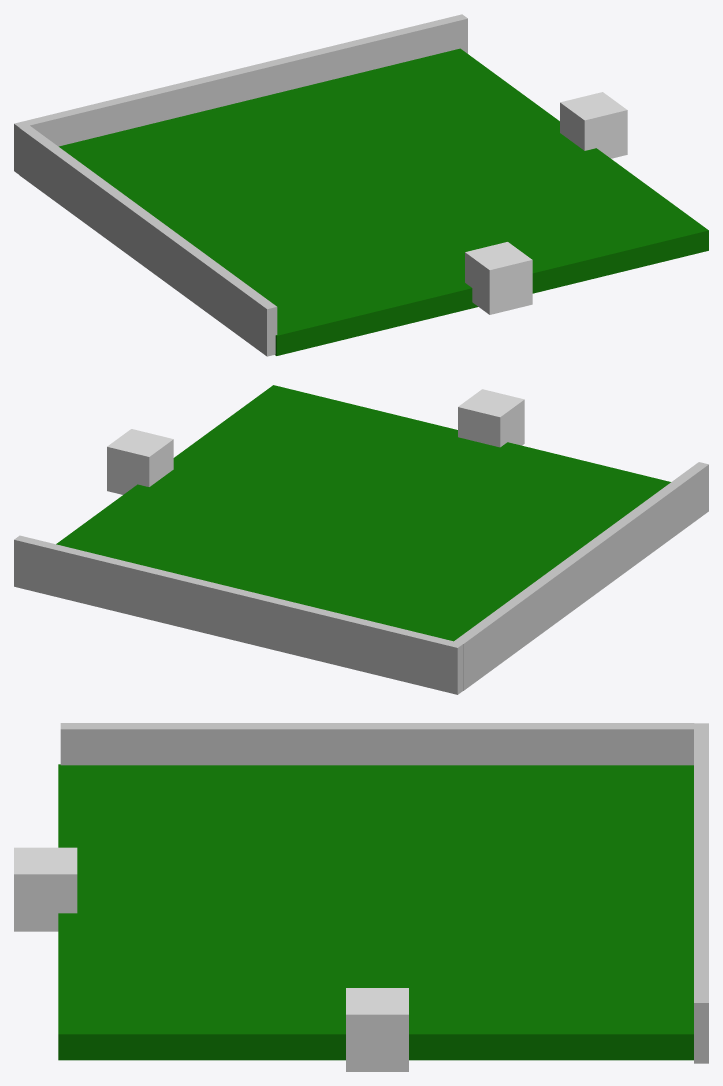
Rendered from hard_bend.gltf.
3 renders of one model, top to bottom at view 1: azimuth 30°, elevation 25°; view 2: azimuth 150°, elevation 25°; view 3: azimuth 270°, elevation 25°, orthographic. The views are drawn at different scales.
Visible parts, largest first — view 1: Cube, Cube.004, Cube.001, obj_snap.003, obj_snap; view 2: Cube, Cube.004, Cube.001, obj_snap, obj_snap.003; view 3: Cube, Cube.001, obj_snap, Cube.004, obj_snap.003.
Part boxes in pixels (left/top/right/bottom): Cube: left=59, top=48, right=708, bottom=355; Cube.004: left=14, top=14, right=467, bottom=174; Cube.001: left=19, top=125, right=277, bottom=356; obj_snap.003: left=465, top=242, right=532, bottom=314; obj_snap: left=560, top=92, right=627, bottom=158; Cube: left=56, top=385, right=670, bottom=641; Cube.004: left=14, top=535, right=463, bottom=694; Cube.001: left=454, top=462, right=708, bottom=690; obj_snap: left=107, top=429, right=173, bottom=494; obj_snap.003: left=458, top=389, right=524, bottom=447; Cube: left=58, top=764, right=693, bottom=1060; Cube.001: left=60, top=723, right=694, bottom=765; obj_snap: left=346, top=988, right=408, bottom=1071; Cube.004: left=694, top=723, right=708, bottom=1063; obj_snap.003: left=14, top=847, right=77, bottom=931.
Bounding box in the file's own units: 4.41 × 0.4536 × 4.4.
